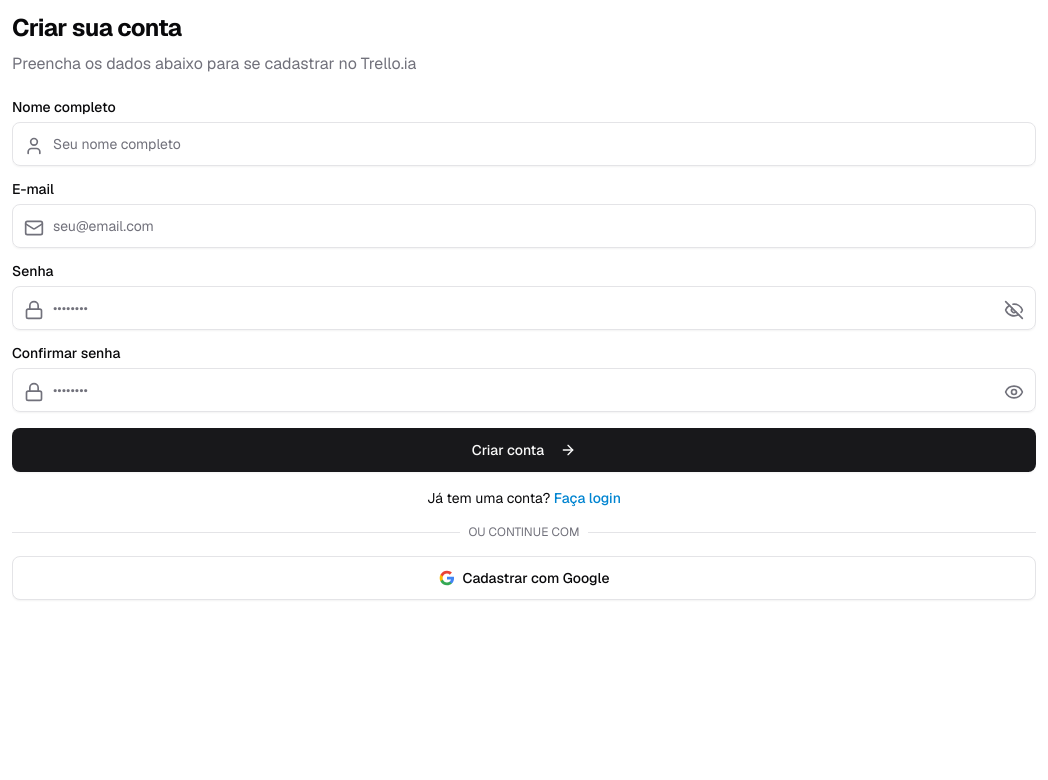
SignupForm › exibe erros de validação para campos vazios
The image size is (1048, 780).
Click the button "Criar conta".
click(524, 450)  # box [12,428,1036,472]
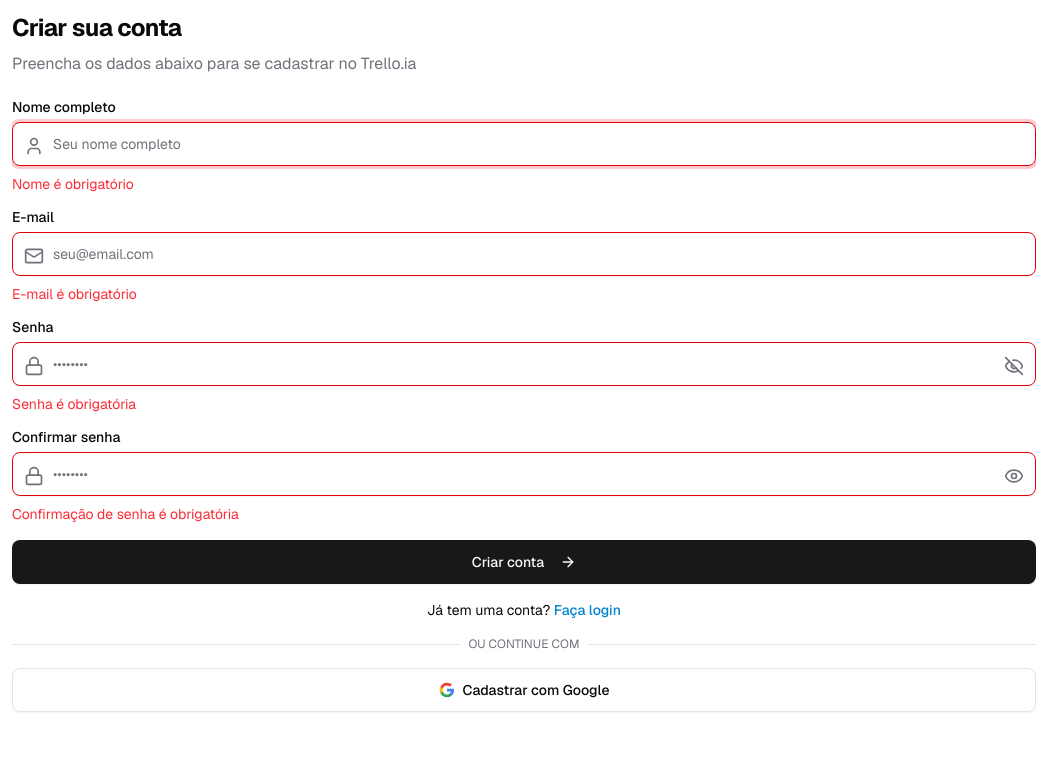
expect the text "Nome é obrigatório" is shown: met, box [12,175,134,193]
expect the text "E-mail é obrigatório" is shown: met, box [12,285,137,303]
expect the text "Senha é obrigatória" is shown: met, box [12,395,136,413]
